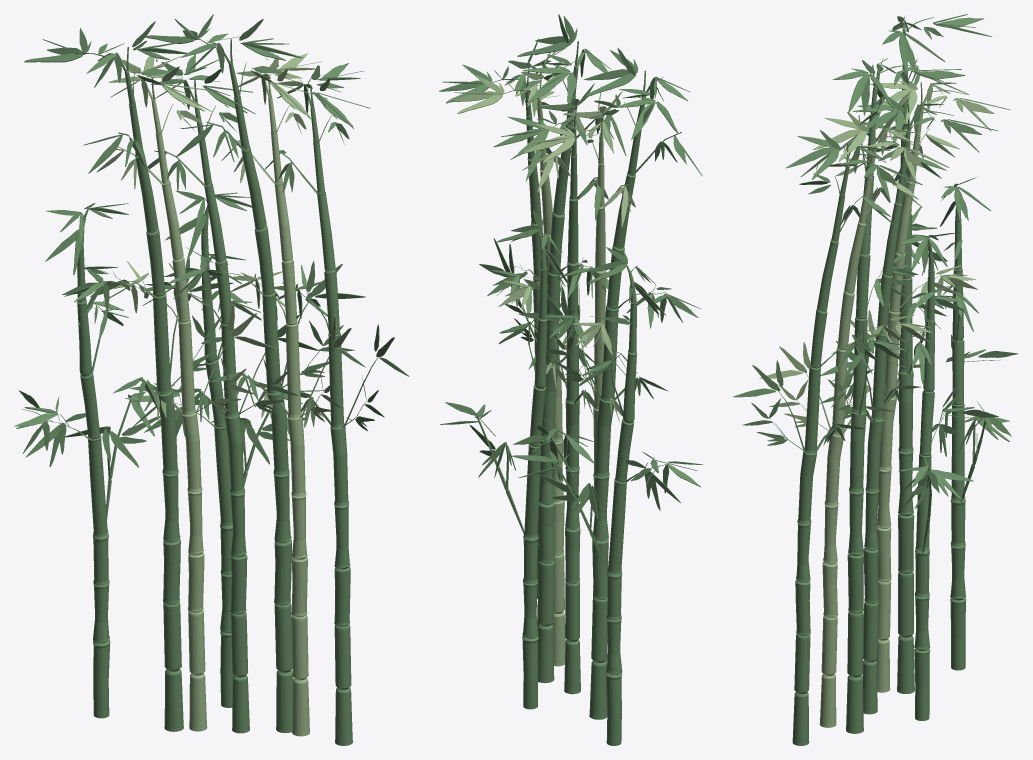
File: somebamboo.fbx
The picture shows the model from 3 angles, left to right: view 1: azimuth 30°, elevation 25°; view 2: azimuth 150°, elevation 25°; view 3: azimuth 270°, elevation 25°; orthographic projection. The views are drawn at different scales.
Parts seen in each view (by area): view 1: Plane.119, Plane.007, Plane.005, Plane.006, Plane.008, Plane.192, Cylinder.000, Cylinder.004; view 2: Plane.119, Plane.007, Cylinder.000, Cylinder.004, Plane.192, Plane.008, Plane.005, Plane.006; view 3: Plane.006, Plane.008, Plane.007, Plane.192, Plane.005, Cylinder.004, Plane.119, Cylinder.000.
Boxes of the visible parts, x1,y1,x2,y2 form: Plane.119: (24,21,233,731); Plane.007: (145,14,365,732); Plane.005: (96,52,276,731); Plane.006: (264,63,409,745); Plane.008: (221,53,365,736); Plane.192: (140,54,319,733); Cylinder.000: (14,203,174,718); Cylinder.004: (125,190,324,707); Plane.119: (518,48,702,719); Plane.007: (479,14,626,683); Cylinder.000: (511,247,703,745); Cylinder.004: (440,210,594,709); Plane.192: (493,83,608,694); Plane.008: (453,52,579,666); Plane.005: (522,85,635,663); Plane.006: (439,38,565,626); Plane.006: (733,130,922,745); Plane.008: (759,112,949,727); Plane.007: (829,58,969,733); Plane.192: (819,96,997,714); Plane.005: (831,75,1010,692); Cylinder.004: (898,232,998,720); Plane.119: (868,14,992,693); Cylinder.000: (940,177,1018,670).
Size of the model in its own units: 3636 by 7911 by 3096.
